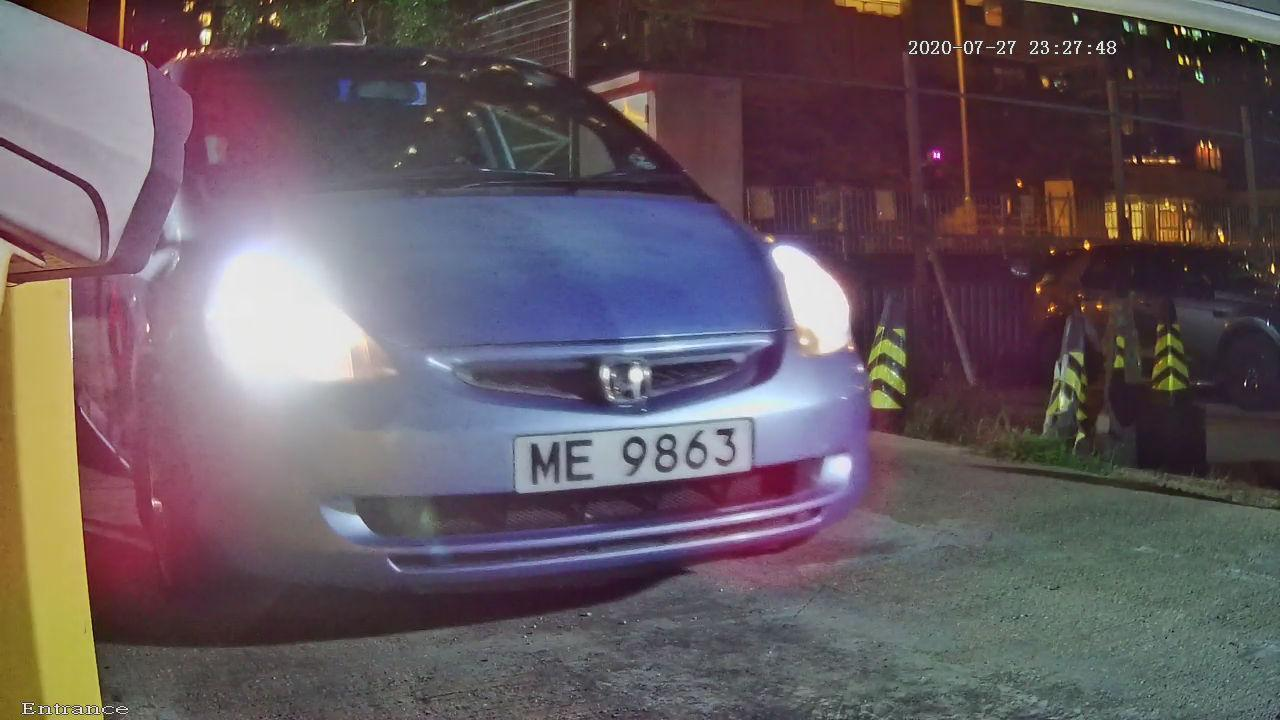privatecar: (63, 17, 943, 640)
